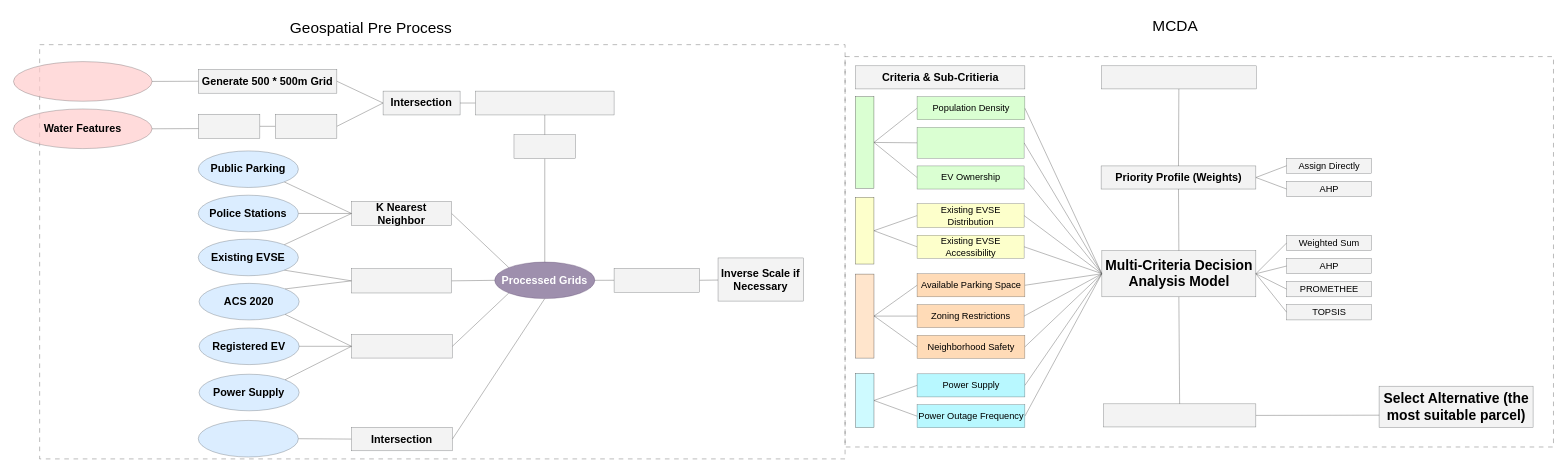
The diagram is 1567 pixels wide and 472 high, and some of its shapes have lost their labels. Each missing label, with the box of its shape:
2SFCA: (351, 268, 451, 293)
Buffer: (275, 114, 337, 138)
Centroid: (513, 134, 575, 158)
Demographic: (855, 96, 874, 188)
Dissolve: (198, 114, 260, 138)
Energy: (855, 373, 874, 427)
Environment: (855, 274, 874, 358)
Infrastructure: (855, 197, 874, 264)
Percentage Driving Age Population: (917, 127, 1024, 158)
Philadelphia Boundary: (13, 61, 152, 101)
Ranking Alternatives: (1103, 403, 1256, 427)
Remove Grids in Water: (475, 91, 614, 115)
Scale Features: (614, 268, 699, 292)
Spatial Join: (351, 334, 452, 358)
Stakeholder Meetings: (1101, 65, 1256, 89)
Zoning: (198, 420, 298, 457)
